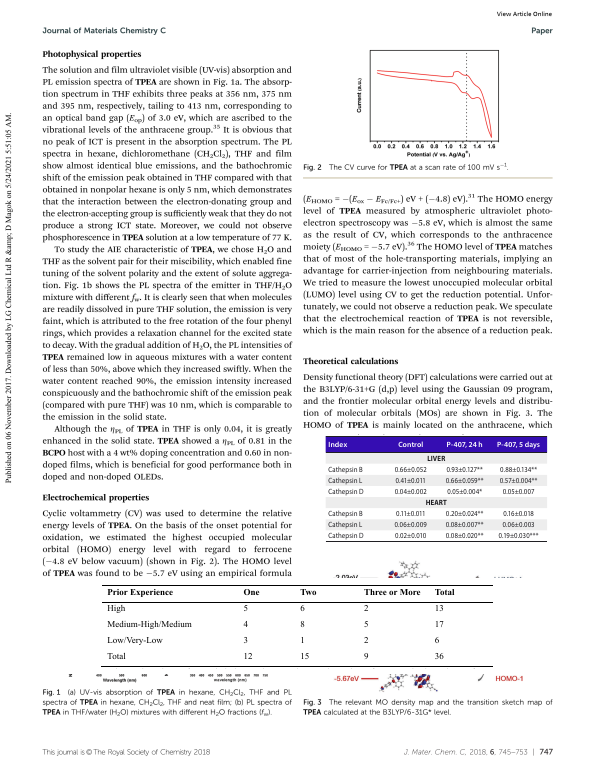borderless: (101, 583, 493, 666), (326, 434, 547, 541)
cell: (106, 620, 192, 630), (106, 587, 173, 597), (362, 587, 421, 597), (106, 636, 163, 646), (496, 440, 541, 449), (497, 532, 539, 541), (445, 465, 484, 474), (499, 465, 538, 474), (445, 476, 484, 485), (499, 476, 538, 485), (445, 510, 484, 519), (445, 521, 484, 530), (445, 532, 484, 541), (446, 440, 484, 449), (327, 465, 364, 474), (327, 487, 364, 496), (446, 487, 483, 496), (327, 510, 364, 519), (327, 532, 364, 541), (327, 476, 363, 485), (327, 521, 363, 530), (393, 521, 428, 530), (501, 521, 536, 530), (394, 465, 428, 474), (394, 487, 428, 496), (394, 476, 427, 485), (502, 487, 535, 496), (502, 510, 535, 519), (394, 532, 427, 541), (395, 510, 426, 519), (397, 440, 424, 449), (433, 587, 455, 597), (106, 604, 126, 614), (106, 652, 126, 662), (327, 440, 348, 449), (242, 587, 260, 597), (299, 587, 317, 597), (425, 499, 448, 506), (426, 454, 446, 461), (433, 604, 444, 614), (433, 620, 444, 630), (242, 652, 253, 662), (299, 652, 310, 662), (433, 652, 444, 662), (362, 604, 369, 614), (362, 620, 369, 630), (362, 636, 369, 646), (433, 636, 440, 646), (362, 652, 369, 662), (242, 604, 248, 614), (299, 604, 305, 614), (242, 620, 248, 630), (299, 620, 305, 630), (242, 636, 248, 646), (299, 636, 305, 646)
